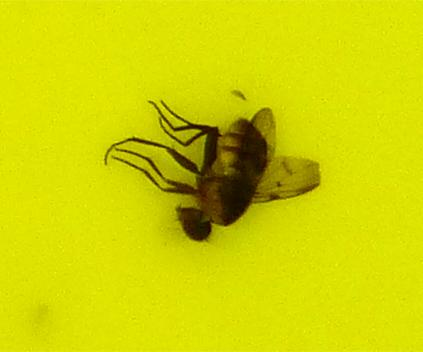Brachycera: (100, 100, 323, 252)
